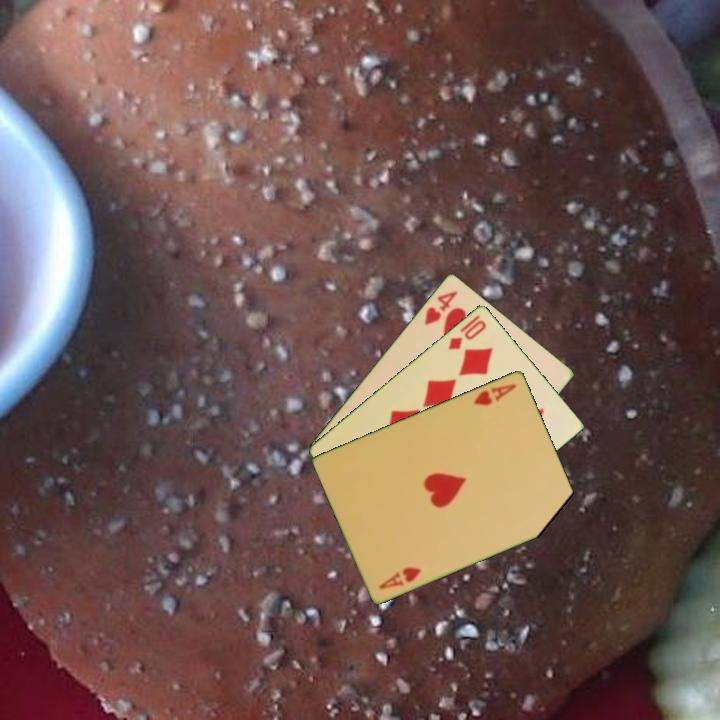10d: (444, 316, 489, 353)
4h: (421, 287, 460, 328)
Ah: (470, 380, 520, 408), (376, 563, 424, 592)
